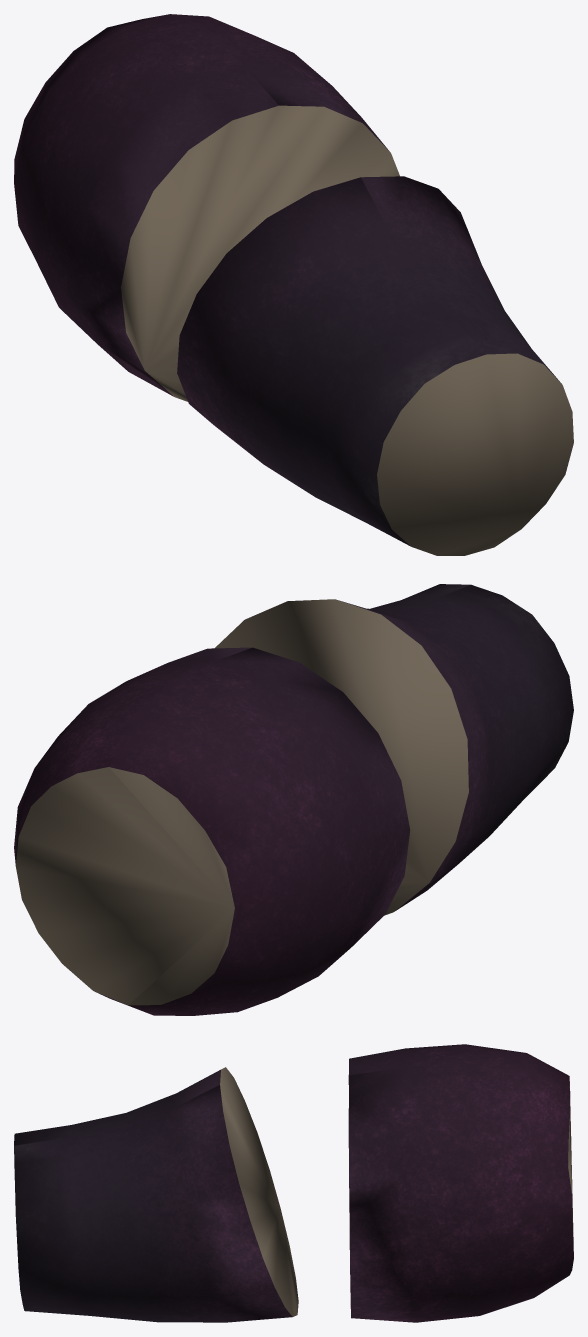
The model's file is EggplantCut02.fbx.
3 renders of one model, top to bottom at view 1: azimuth 30°, elevation 25°; view 2: azimuth 150°, elevation 25°; view 3: azimuth 270°, elevation 25°, orthographic. The views are drawn at different scales.
Visible parts, largest first — view 1: Eggplant, Eggplant.001; view 2: Eggplant.001, Eggplant; view 3: Eggplant.001, Eggplant.
Part boxes in pixels (<box>): Eggplant: <box>177,176,573,555</box>; Eggplant.001: <box>14,14,399,401</box>; Eggplant.001: <box>14,647,410,1015</box>; Eggplant: <box>215,584,573,915</box>; Eggplant.001: <box>348,1044,573,1322</box>; Eggplant: <box>14,1067,298,1322</box>.
Bounding box in the file's own units: 1185 × 1207 × 2401.
